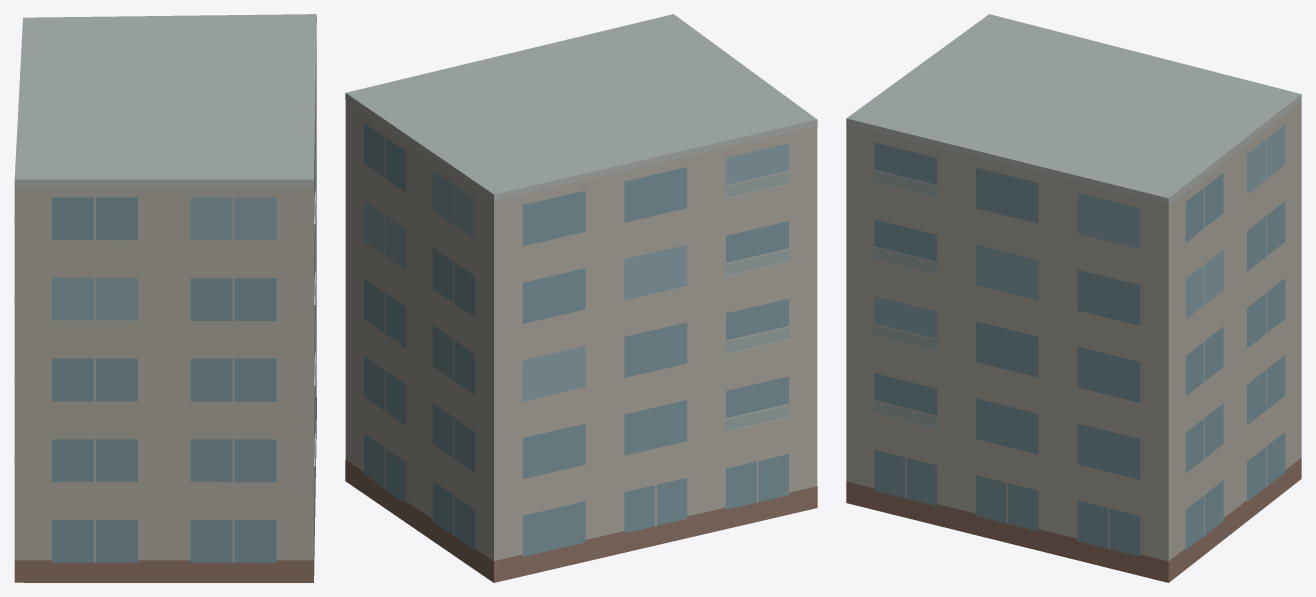
Rendered from survey-upis-32873523.glb.
3 renders of one model, left to right at view 1: azimuth 30°, elevation 25°; view 2: azimuth 150°, elevation 25°; view 3: azimuth 270°, elevation 25°, orthographic. The views are drawn at different scales.
Parts seen in each view (by area): view 1: survey-upis-32873523.tmp; view 2: survey-upis-32873523.tmp; view 3: survey-upis-32873523.tmp.
Boxes of the visible parts, left/top/right/bottom form: survey-upis-32873523.tmp: left=14, top=14, right=316, bottom=582; survey-upis-32873523.tmp: left=345, top=14, right=817, bottom=582; survey-upis-32873523.tmp: left=846, top=14, right=1301, bottom=582.
Size of the model in its own units: 14.61 by 14.2 by 15.25.
